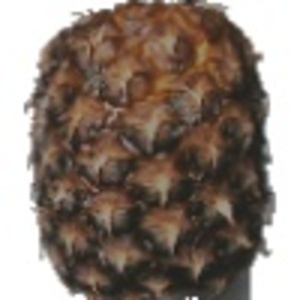abacaxi: (19, 1, 278, 299)
